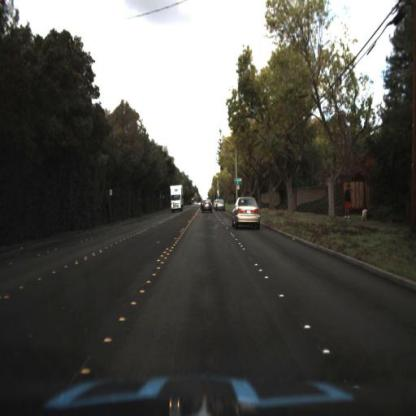car: (231, 191, 263, 234), (213, 196, 230, 215), (203, 196, 216, 216), (215, 196, 227, 211)
pedestrian: (342, 183, 353, 220)
truck: (170, 185, 186, 216)
